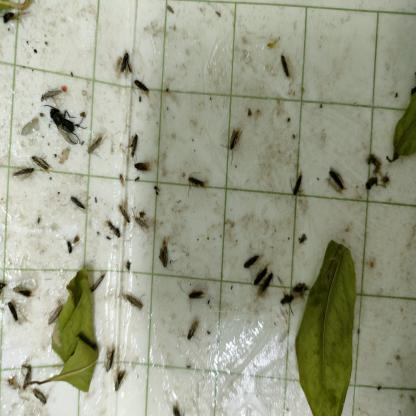prays_oleae: (47, 100, 78, 150), (120, 283, 146, 318), (83, 130, 106, 168), (243, 241, 268, 275), (68, 186, 90, 221), (156, 232, 172, 278), (111, 360, 128, 402), (325, 169, 346, 202), (38, 76, 62, 104), (107, 216, 128, 248), (255, 267, 273, 300), (125, 119, 140, 158), (101, 342, 115, 382), (90, 268, 110, 296), (251, 262, 270, 290), (181, 318, 199, 347), (19, 363, 37, 392), (133, 210, 150, 240), (280, 50, 291, 96), (34, 150, 52, 178), (6, 298, 24, 326), (224, 126, 239, 159), (184, 286, 210, 304), (280, 283, 298, 308), (288, 168, 303, 197), (132, 76, 150, 100), (188, 170, 206, 194), (30, 389, 52, 407), (42, 309, 63, 327), (12, 284, 38, 298), (113, 53, 133, 70), (12, 168, 36, 182), (130, 162, 148, 180), (117, 205, 132, 226)
